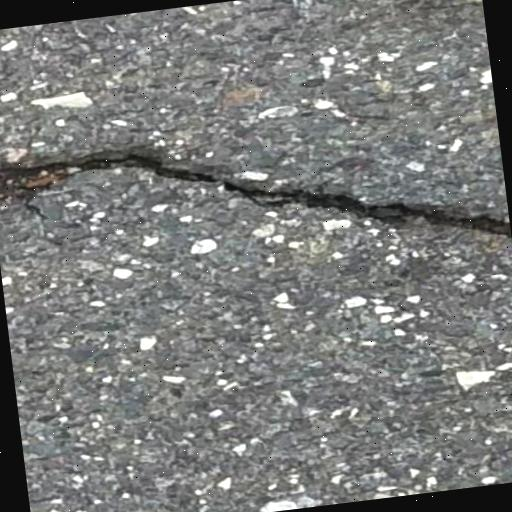spalling: (0, 137, 508, 250)
